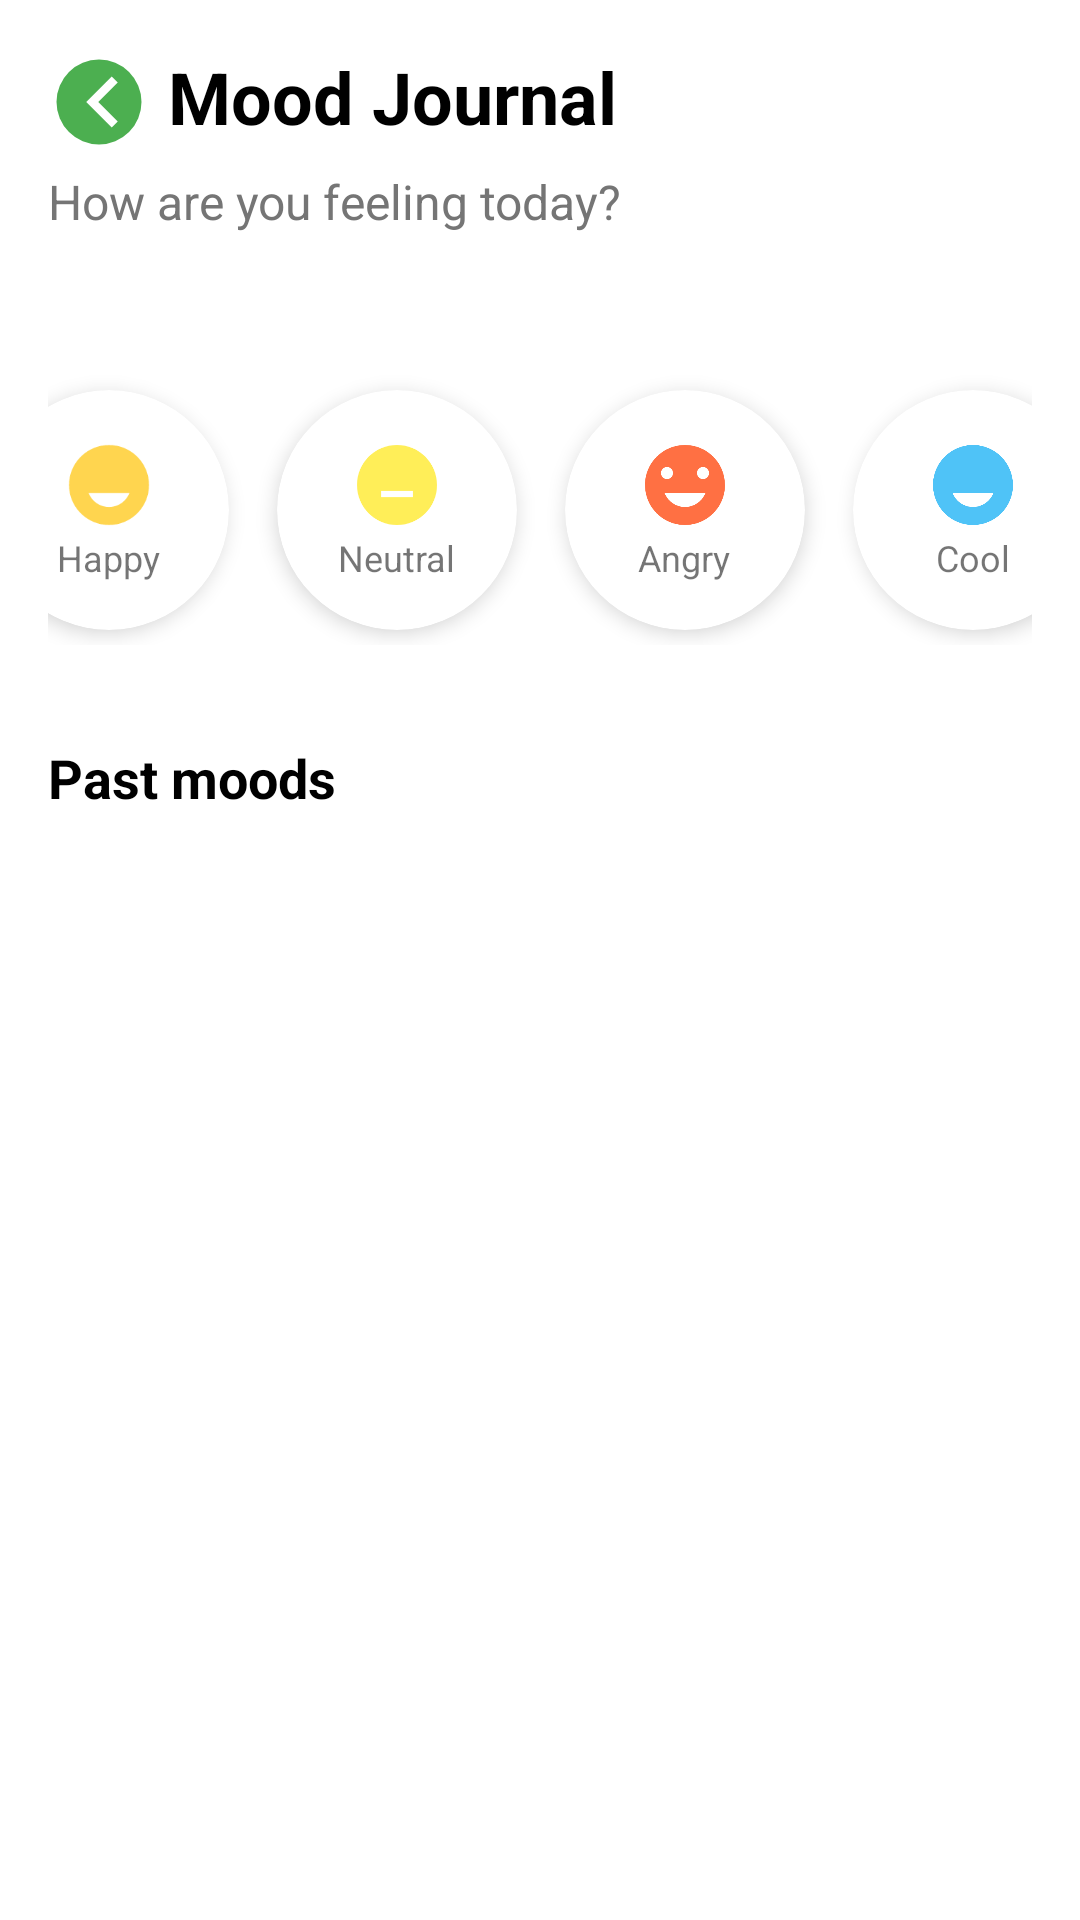

Icon bounding boxes for this 1080w x 1920h phone screenshot, format (x1, y1, x2, y2):
back: (56, 59, 142, 145)
